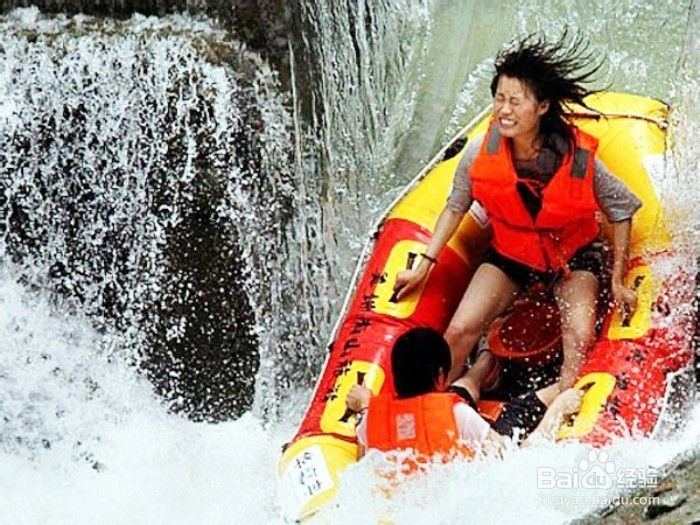reflective_clothes: (466, 117, 602, 274), (358, 388, 479, 481)
